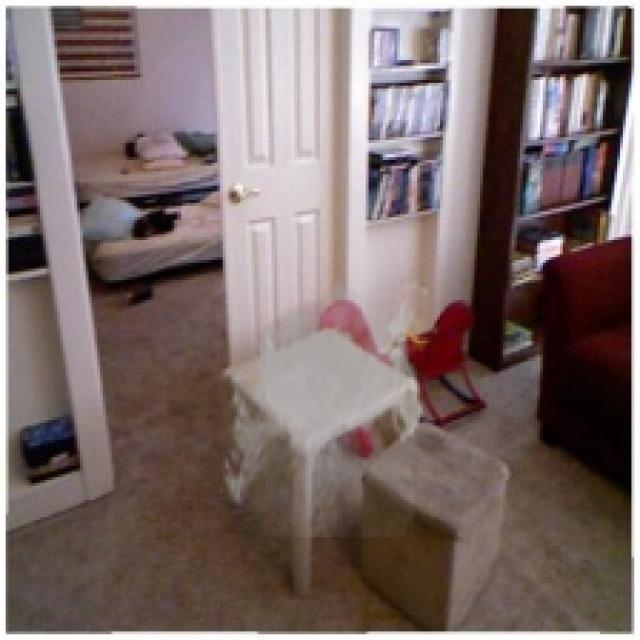smoke: (217, 272, 429, 537)
